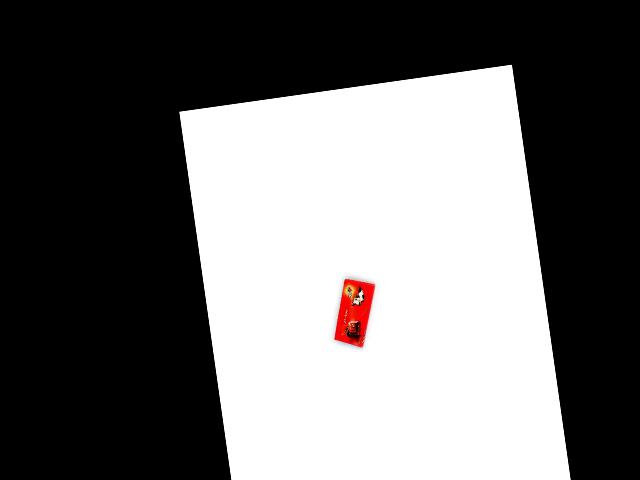chocolate: (325, 276, 383, 351)
